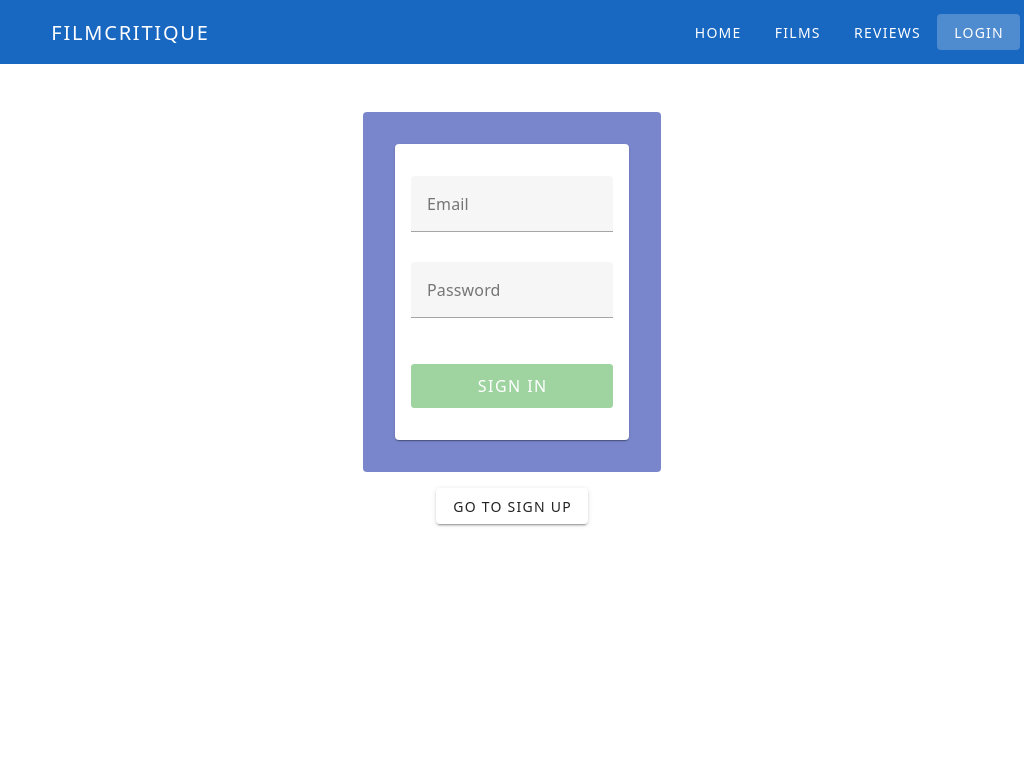
Authentication › shows error for invalid credentials
In the element with test id "email": [512, 215] box [411,176,613,254], type "wrong@email.com"
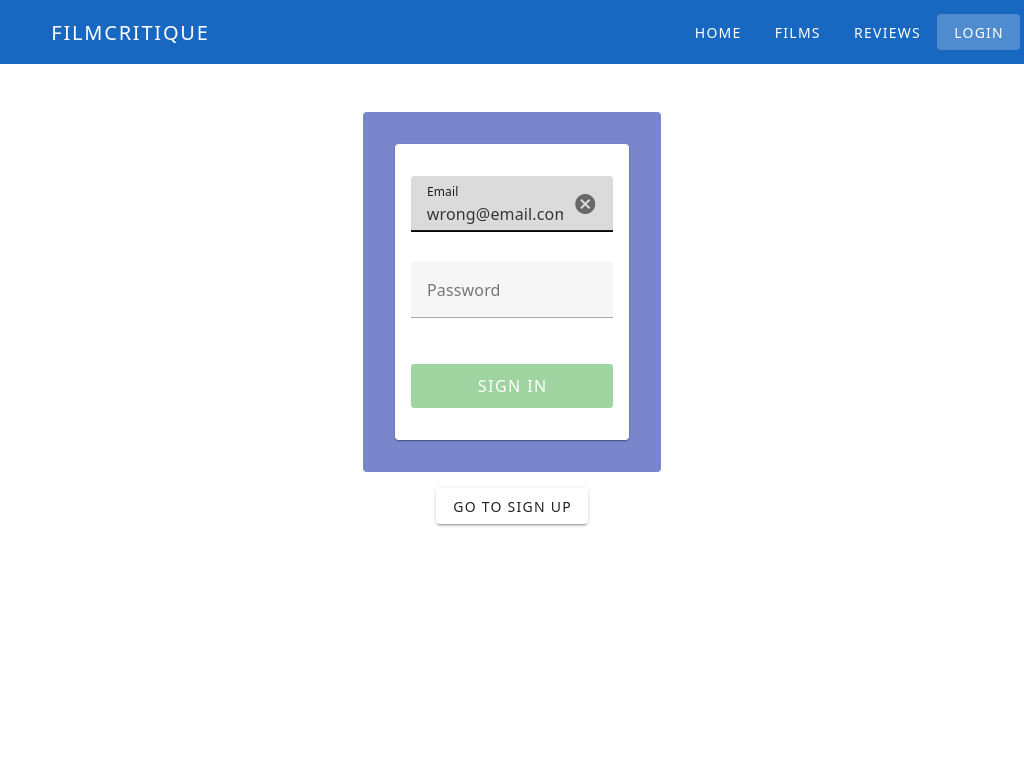
In the element with test id "password": [512, 301] box [411,262,613,340], type "wrongpass"
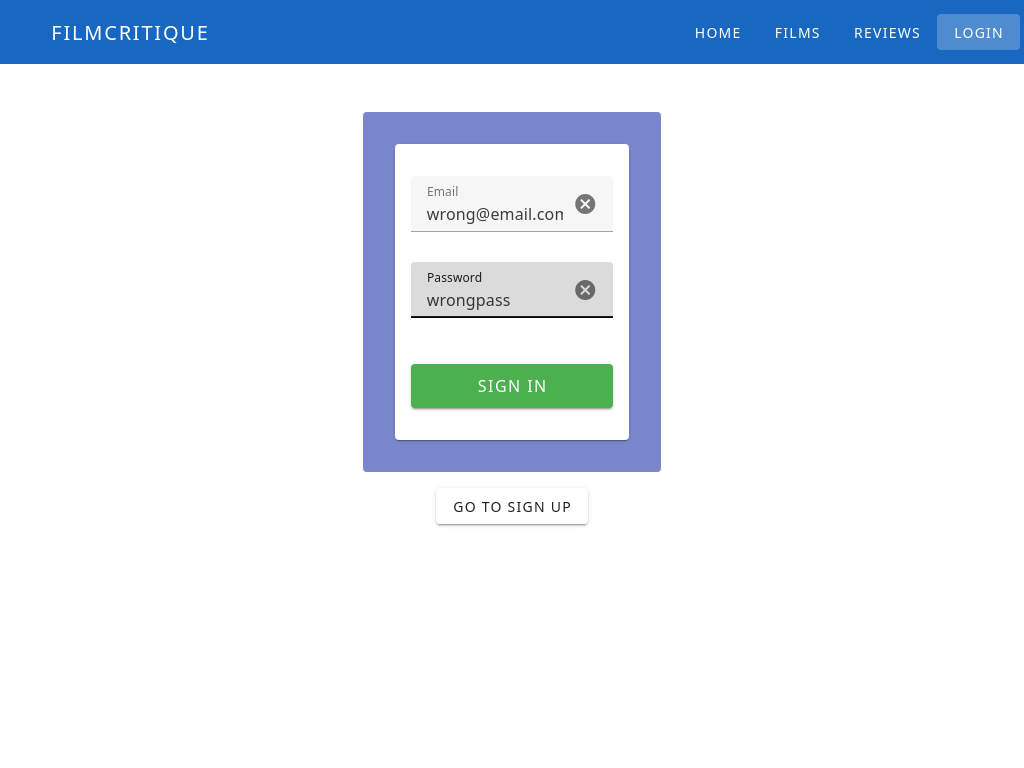
Click the button with test id "login-btn": [512, 386] box [411,364,613,408]
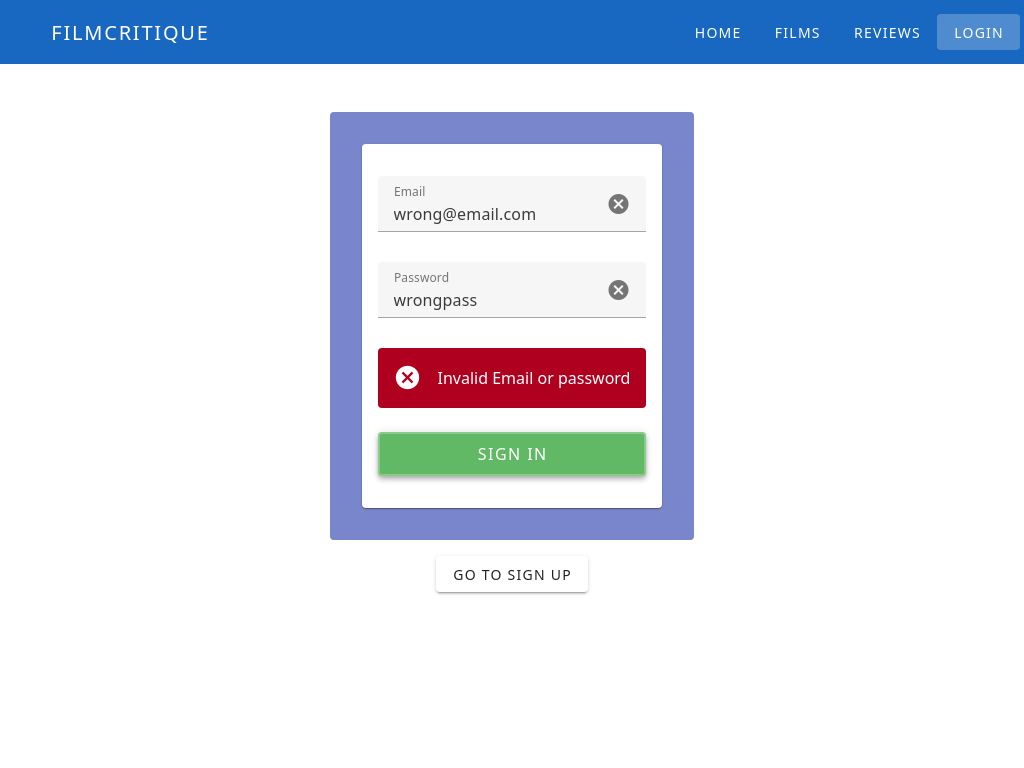
Result: the text "Invalid Email or password" is shown at [438,364,630,392]
